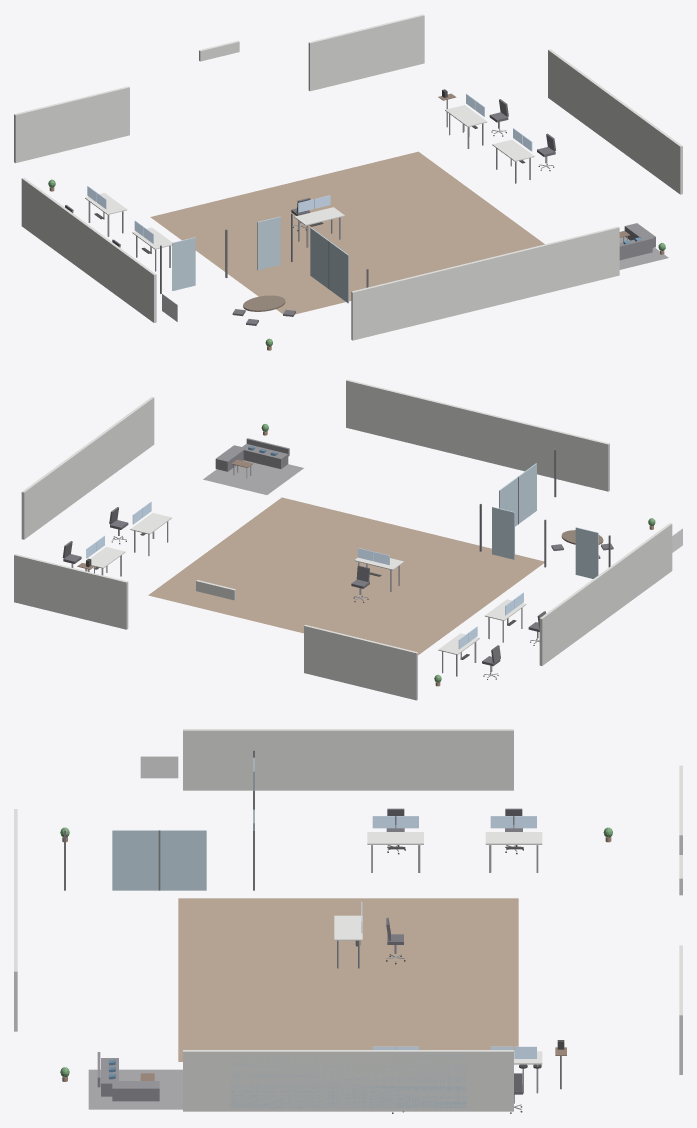
Rendered from office_v10.glb.
3 views of the same model, one above another, from view 1: azimuth 30°, elevation 25°; view 2: azimuth 150°, elevation 25°; view 3: azimuth 270°, elevation 25° (orthographic). The views are drawn at different scales.
Visible parts, largest first — view 1: Floor, Back_Wall, Left_Wall, Right_Wall, Front_Wall_Right, Front_Wall_Left, Cube.002, Cube, Cube.001, Cylinder, Plane, Cube.037; view 2: Floor, Back_Wall, Left_Wall, Right_Wall, Front_Wall_Right, Front_Wall_Left, Plane, Cube.002, Cube, Cube.001, Cube.073, Cube.075 (+1 smaller); view 3: Floor, Right_Wall, Left_Wall, Window, Cube.002, Plane, Cube.075, Cube.012, Back_Wall, Cube.025, Cube.037, Cube.013.
Part boxes in pixels (x1,y1,x2,y2): Floor: (150,151,544,316); Back_Wall: (351,226,619,340); Left_Wall: (21,177,156,322); Right_Wall: (548,49,682,194); Front_Wall_Right: (308,14,424,91); Front_Wall_Left: (14,86,129,163); Cube.002: (310,227,348,303); Cube: (172,237,195,290); Cube.001: (257,216,280,270); Cylinder: (243,295,285,311); Plane: (619,237,668,269); Cube.037: (294,207,344,225); Floor: (148,497,544,655); Back_Wall: (346,379,609,491); Left_Wall: (539,523,672,665); Right_Wall: (21,397,154,539); Front_Wall_Right: (14,554,128,629); Front_Wall_Left: (304,625,417,700); Plane: (203,460,303,494); Cube.002: (499,463,536,526); Cube: (575,527,598,578); Cube.001: (492,507,514,559); Cube.073: (240,444,288,468); Cube.075: (215,445,245,471); Floor: (178,898,518,1061); Right_Wall: (183,1050,513,1111); Left_Wall: (183,729,513,790); Window: (230,1055,466,1108); Cube.002: (112,830,206,890); Plane: (88,1069,182,1109); Cube.075: (112,1081,159,1101); Cube.012: (140,756,178,778); Back_Wall: (14,809,17,1031); Cube.025: (485,832,542,844); Cube.037: (334,915,362,940); Cube.013: (367,832,423,844).
Size of the model in its own units: 16.16 by 2.65 by 14.16.
